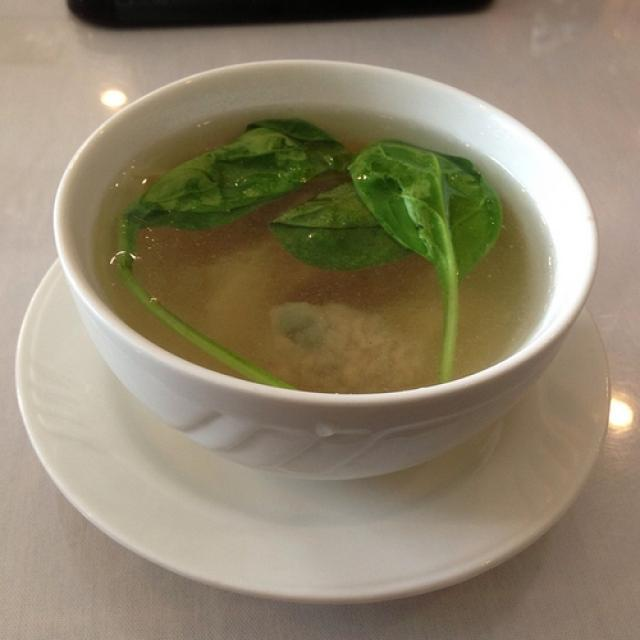汤锅炖物: (64, 64, 577, 444)
